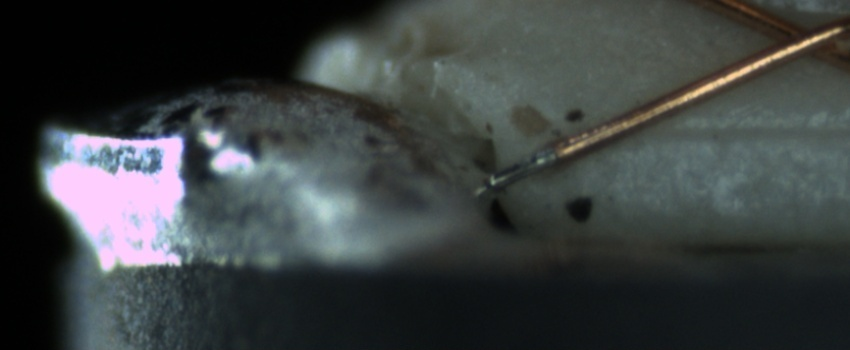CL: (746, 5, 847, 69)
DL: (634, 98, 849, 162)
TS: (483, 147, 556, 191)
